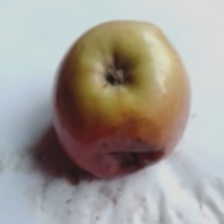apple: (36, 18, 199, 179)
